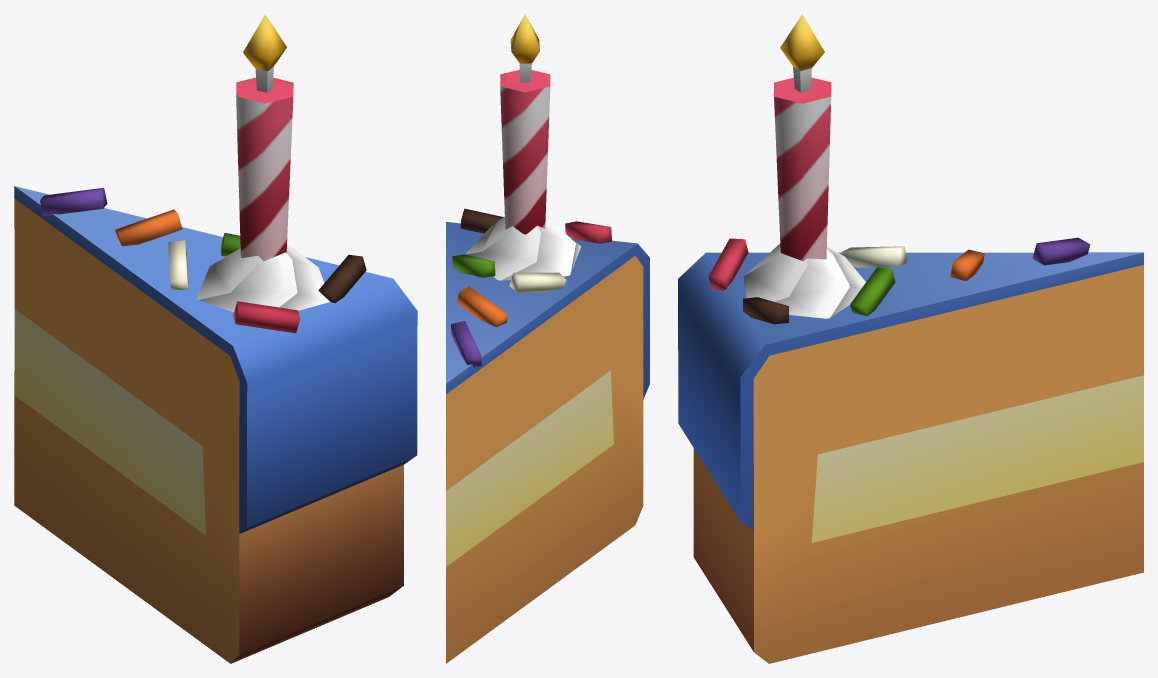
The model's file is m_BirthdayCake03_Slice01.fbx.
3 renders of one model, left to right at view 1: azimuth 30°, elevation 25°; view 2: azimuth 150°, elevation 25°; view 3: azimuth 270°, elevation 25°, orthographic. The views are drawn at different scales.
Visible parts, largest first — view 1: m_BirthdayCake03_Slice01; view 2: m_BirthdayCake03_Slice01; view 3: m_BirthdayCake03_Slice01.
Boxes of the visible parts, box(x1,y1,x2,y2) form: m_BirthdayCake03_Slice01: box(14, 14, 417, 663); m_BirthdayCake03_Slice01: box(446, 14, 649, 663); m_BirthdayCake03_Slice01: box(678, 14, 1143, 663).
Bounding box in the file's own units: 7.51 × 20.5 × 14.48.
